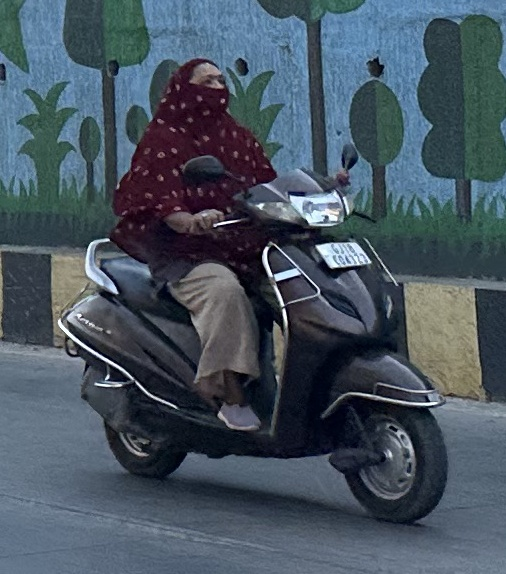BikeWithRider: (44, 46, 458, 535)
NoHelmet: (161, 51, 239, 123)
